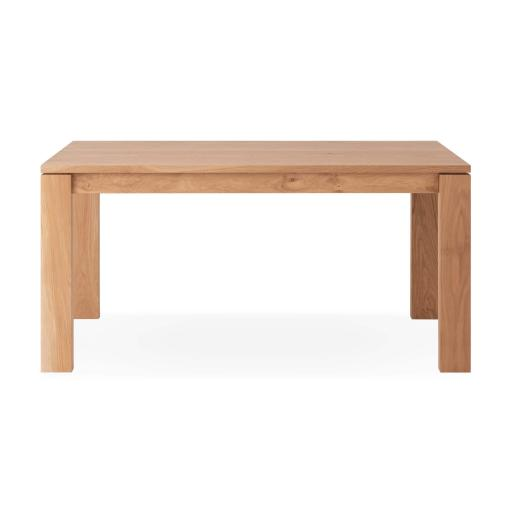table: (39, 125, 474, 382)
